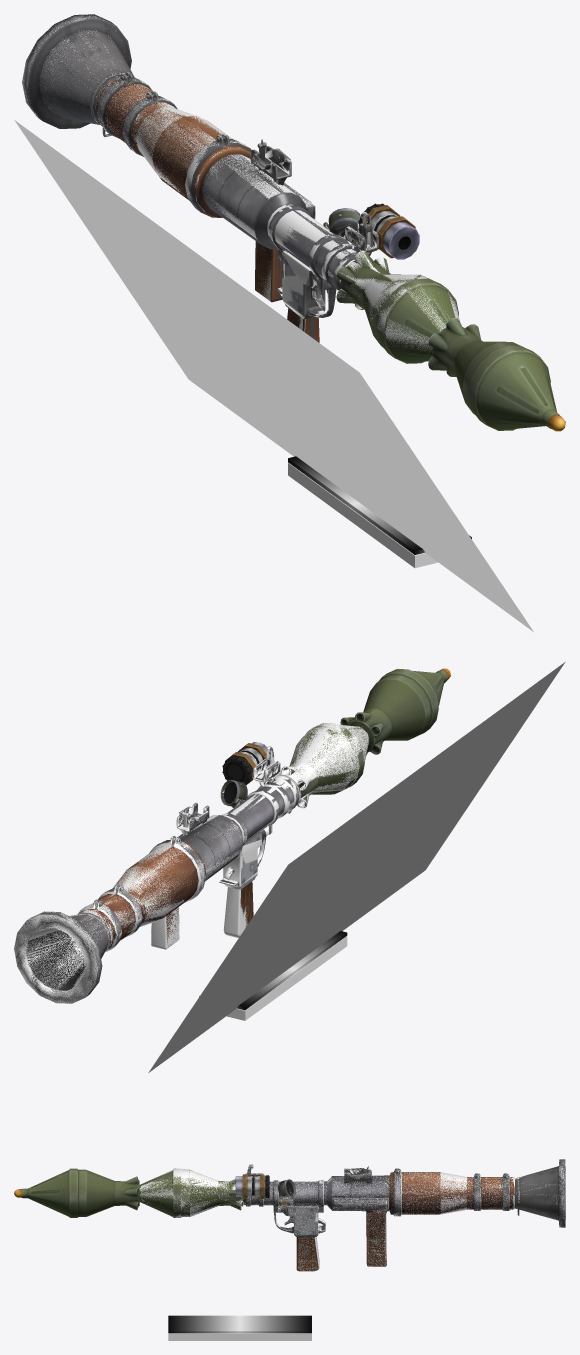
The model's file is RPG.glb.
The picture shows the model from 3 angles, top to bottom: view 1: azimuth 30°, elevation 25°; view 2: azimuth 150°, elevation 25°; view 3: azimuth 270°, elevation 25°; orthographic projection. The views are drawn at different scales.
Visible parts, largest first — view 1: LightQuad, RGBBodyModel (×2), RocketModel (×3), Cube (1), LaserAimModuleLOD0, Cube; view 2: RGBBodyModel (×2), LightQuad, RocketModel (×3), Cube (1), LaserAimModuleLOD0, Cube, AmmoCounterModel; view 3: RGBBodyModel (×2), RocketModel (×3), Cube, Cube (1), LaserAimModuleLOD0, AmmoCounterModel.
Boxes of the visible parts, x1,y1,x2,y2 form: LightQuad: [14, 120, 533, 631]; RGBBodyModel (×2): [22, 14, 378, 342]; RocketModel (×3): [336, 250, 565, 431]; Cube (1): [288, 462, 438, 568]; LaserAimModuleLOD0: [358, 203, 419, 259]; Cube: [288, 456, 471, 554]; RGBBodyModel (×2): [14, 746, 299, 1003]; LightQuad: [148, 661, 565, 1072]; RocketModel (×3): [269, 668, 450, 813]; Cube (1): [226, 936, 347, 1020]; LaserAimModuleLOD0: [222, 742, 270, 785]; Cube: [199, 931, 347, 1010]; AmmoCounterModel: [220, 780, 248, 807]; RGBBodyModel (×2): [243, 1159, 565, 1271]; RocketModel (×3): [14, 1168, 243, 1217]; Cube: [168, 1315, 311, 1333]; Cube (1): [168, 1333, 311, 1340]; LaserAimModuleLOD0: [235, 1174, 269, 1198]; AmmoCounterModel: [278, 1179, 296, 1206].
Size of what is drawn, in the model's own units: 0.3548 by 0.4633 by 1.3.
7 materials, 4 textured.
